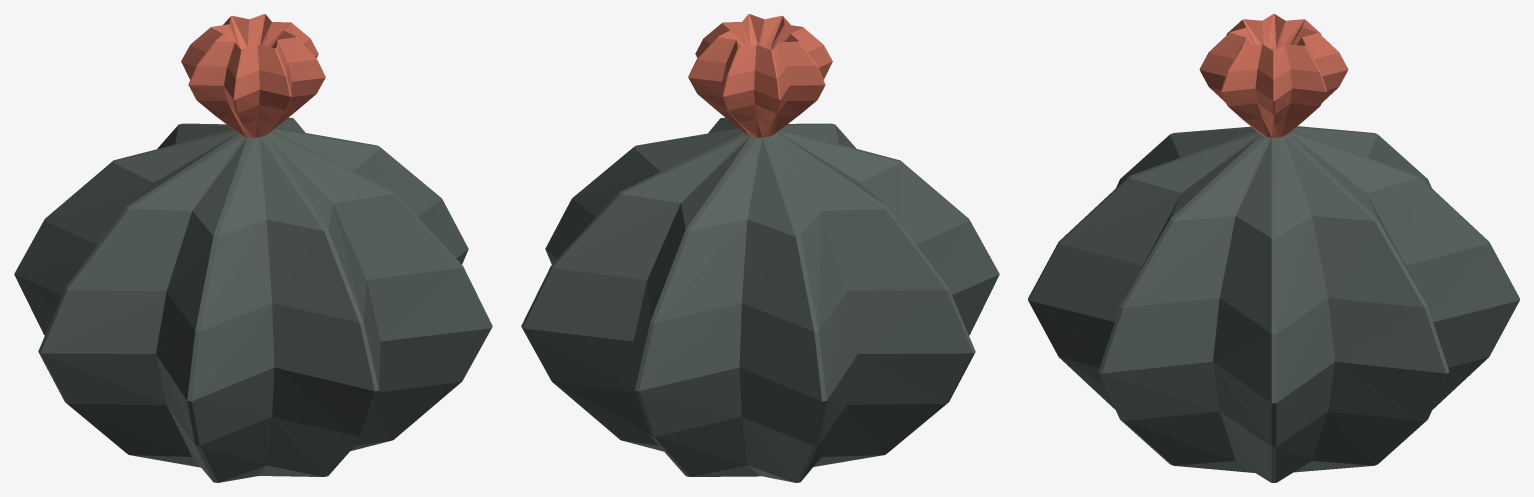
The model's file is cactus_3.fbx.
The picture shows the model from 3 angles, left to right: view 1: azimuth 30°, elevation 25°; view 2: azimuth 150°, elevation 25°; view 3: azimuth 270°, elevation 25°; orthographic projection.
Visible parts, largest first — view 1: cactus_3; view 2: cactus_3; view 3: cactus_3.
Part boxes in pixels (<box>): cactus_3: <box>14,14,492,482</box>; cactus_3: <box>521,14,999,482</box>; cactus_3: <box>1028,14,1519,482</box>.
Bounding box in the file's own units: 98.32 × 96.04 × 98.32.
